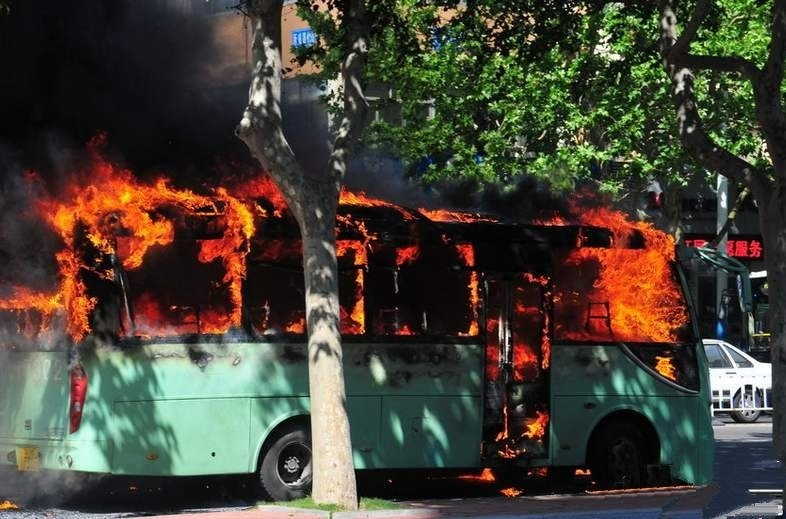fire: (3, 141, 269, 344)
